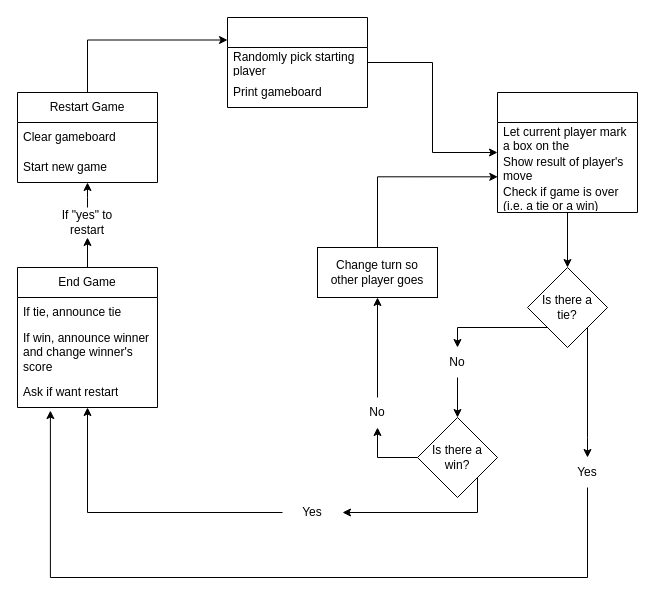
Image size: 655x603. Some labels were removed from this diagram. Each missing label, with the box of its shape:
New Game: (226, 16, 368, 108)
Play a Round: (496, 92, 638, 212)
